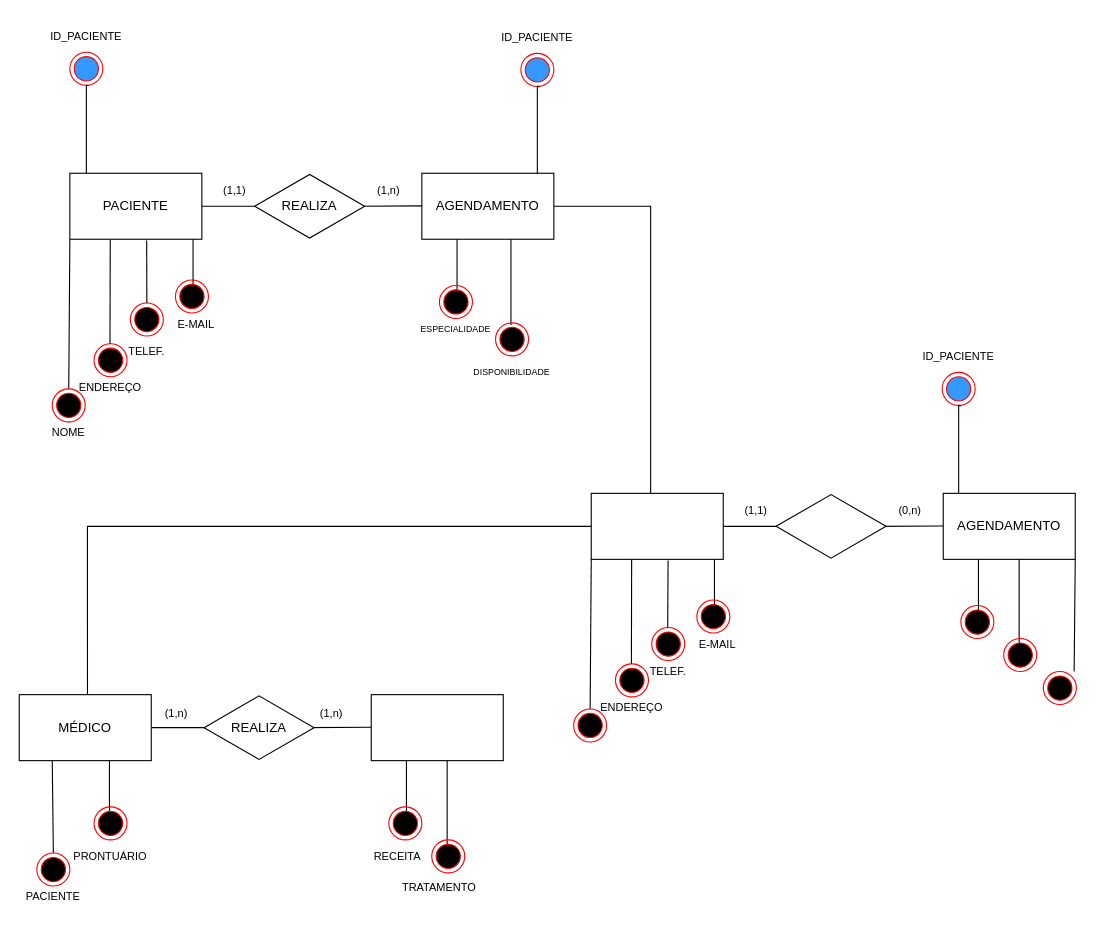
This 1096x931 diagram has some shape labels left out. The shapes that lost their labels are listed below. From the top down, each one's centre as x and y in pixels, then its label:
the point at 656,525: ATENDENTE
the point at 830,525: RECEBE
the point at 436,727: ATENDIMENTO
